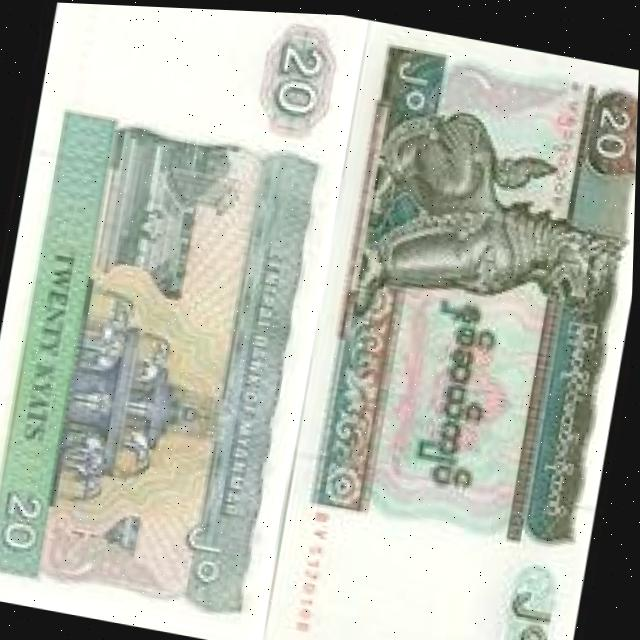banknote: (272, 26, 640, 640), (0, 103, 329, 621)
